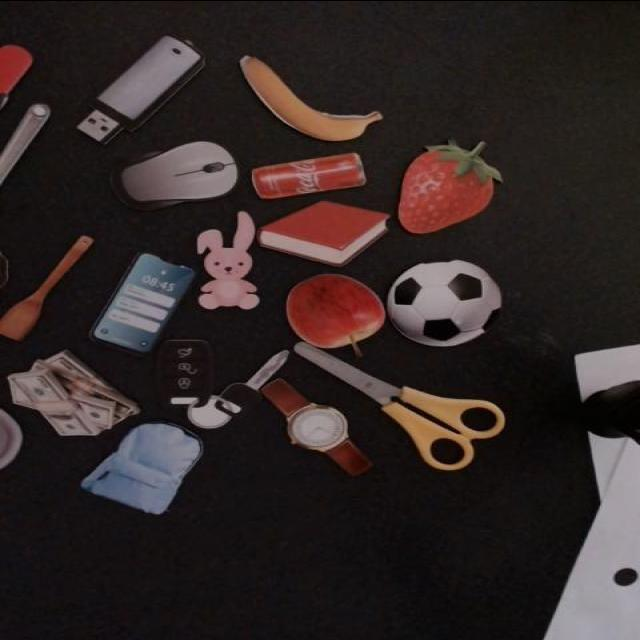Other Objects: (292, 341, 505, 471), (66, 31, 213, 150), (76, 409, 223, 526), (142, 336, 287, 436), (100, 131, 251, 226), (0, 234, 112, 345), (240, 54, 380, 141), (87, 251, 197, 355), (8, 349, 140, 435), (92, 253, 195, 353), (264, 380, 372, 475), (386, 259, 501, 347), (0, 234, 93, 341), (285, 273, 385, 357), (195, 210, 260, 310), (249, 152, 367, 199), (0, 100, 55, 187)
